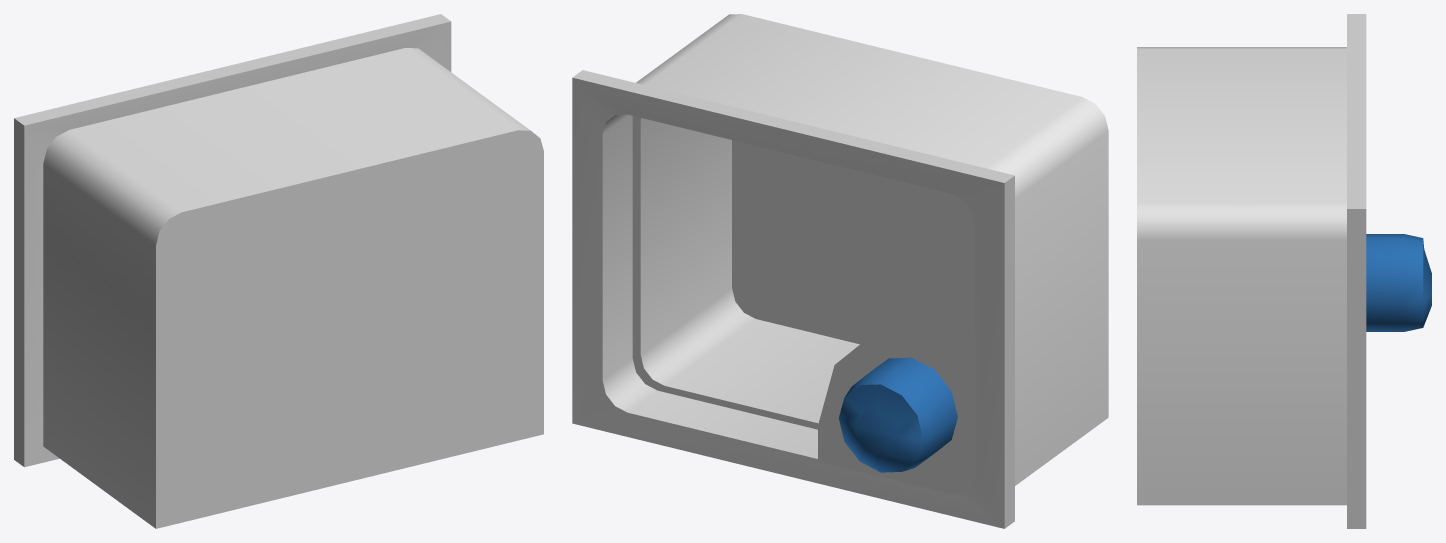
3 views of the same model, side by side, from view 1: azimuth 30°, elevation 25°; view 2: azimuth 150°, elevation 25°; view 3: azimuth 270°, elevation 25° (orthographic). The views are drawn at different scales.
Visible parts, largest first — view 1: Cube; view 2: Cube; view 3: Cube.
Boxes of the visible parts, left/top/right/bottom form: Cube: left=14, top=14, right=543, bottom=528; Cube: left=572, top=14, right=1108, bottom=528; Cube: left=1137, top=14, right=1431, bottom=528.
Size of the model in its own units: 36 by 27.52 by 22.98.
